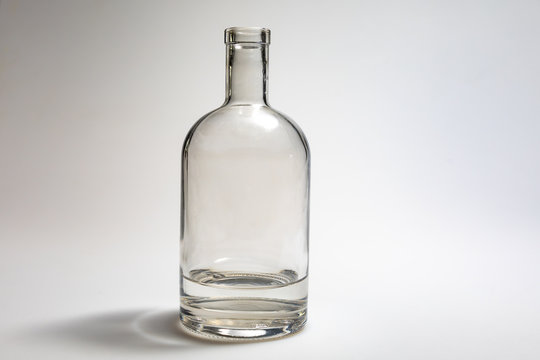glass_bottle: (168, 23, 315, 344)
